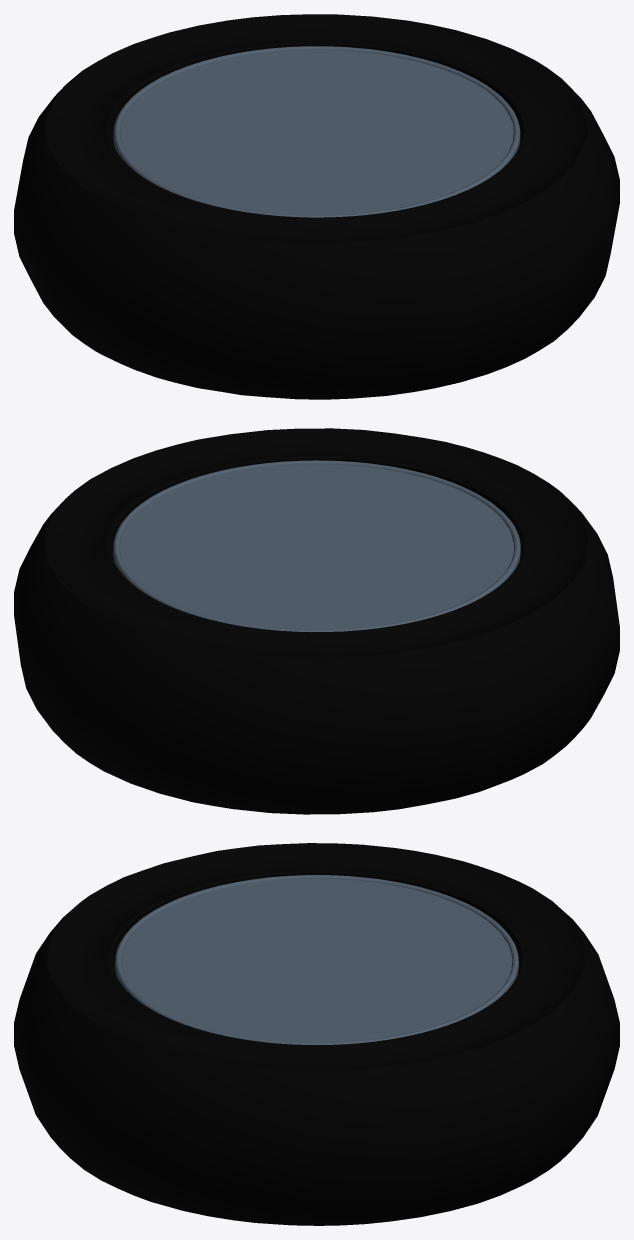
The model's file is hr_wheel.obj.
3 views of the same model, one above another, from view 1: azimuth 30°, elevation 25°; view 2: azimuth 150°, elevation 25°; view 3: azimuth 270°, elevation 25° (orthographic).
Visible parts, largest first — view 1: Mesh.001_mesh-ef542b2f-2a76-4ad8-a0e1-e059b7a85830, Բ__1.001, Mesh_mesh-acef84b8-df45-4b96-9c85-7b749a834b98; view 2: Mesh.001_mesh-ef542b2f-2a76-4ad8-a0e1-e059b7a85830, Բ__1.001, Mesh_mesh-acef84b8-df45-4b96-9c85-7b749a834b98; view 3: Mesh.001_mesh-ef542b2f-2a76-4ad8-a0e1-e059b7a85830, Բ__1.001, Mesh_mesh-acef84b8-df45-4b96-9c85-7b749a834b98.
Boxes of the visible parts, x1,y1,x2,y2 form: Mesh.001_mesh-ef542b2f-2a76-4ad8-a0e1-e059b7a85830: [14, 14, 619, 399]; Բ__1.001: [113, 46, 520, 217]; Mesh_mesh-acef84b8-df45-4b96-9c85-7b749a834b98: [105, 41, 528, 220]; Mesh.001_mesh-ef542b2f-2a76-4ad8-a0e1-e059b7a85830: [14, 428, 619, 814]; Բ__1.001: [113, 460, 520, 632]; Mesh_mesh-acef84b8-df45-4b96-9c85-7b749a834b98: [104, 455, 529, 634]; Mesh.001_mesh-ef542b2f-2a76-4ad8-a0e1-e059b7a85830: [14, 843, 619, 1225]; Բ__1.001: [115, 875, 518, 1044]; Mesh_mesh-acef84b8-df45-4b96-9c85-7b749a834b98: [106, 870, 527, 1047].
Size of the model in its own units: 0.1796 by 0.0509 by 0.1796.
